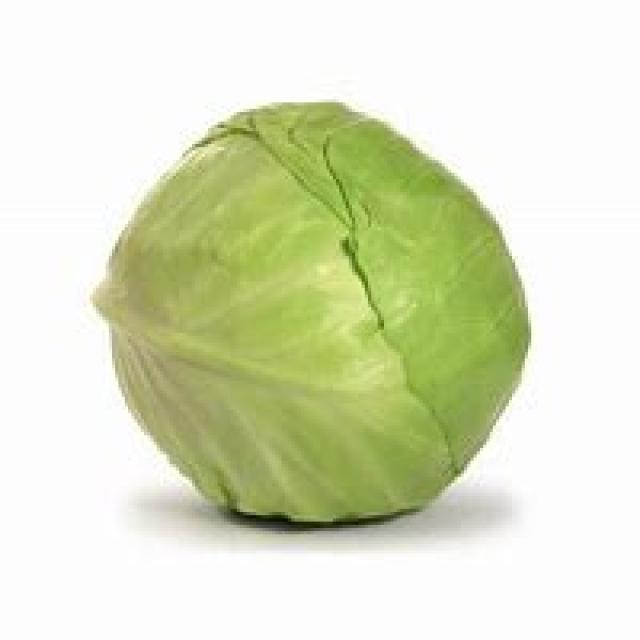cabbage: (102, 76, 522, 538)
